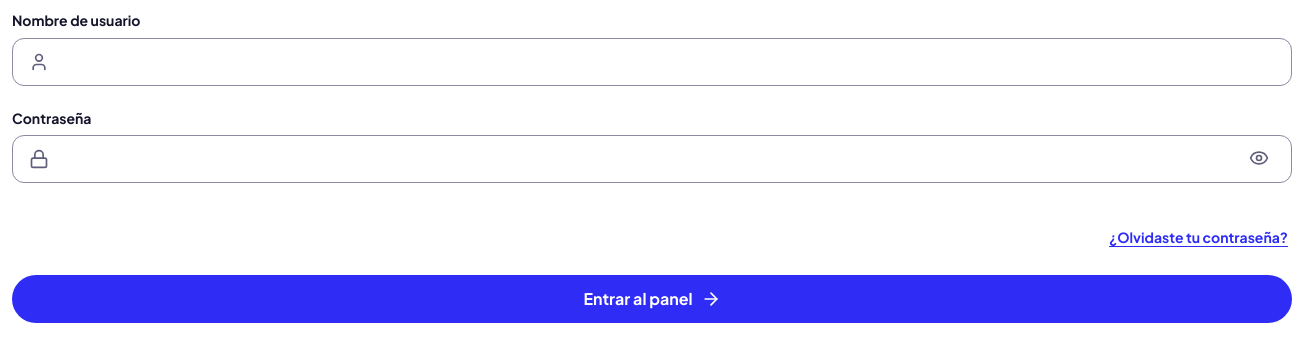
Test: LoginForm: validación › rechaza una contraseña de 7 caracteres sin enviar (CA-015)
In the field labelled "Nombre de usuario": (666, 62) left=57, top=40, right=1275, bottom=84, type "Harold"
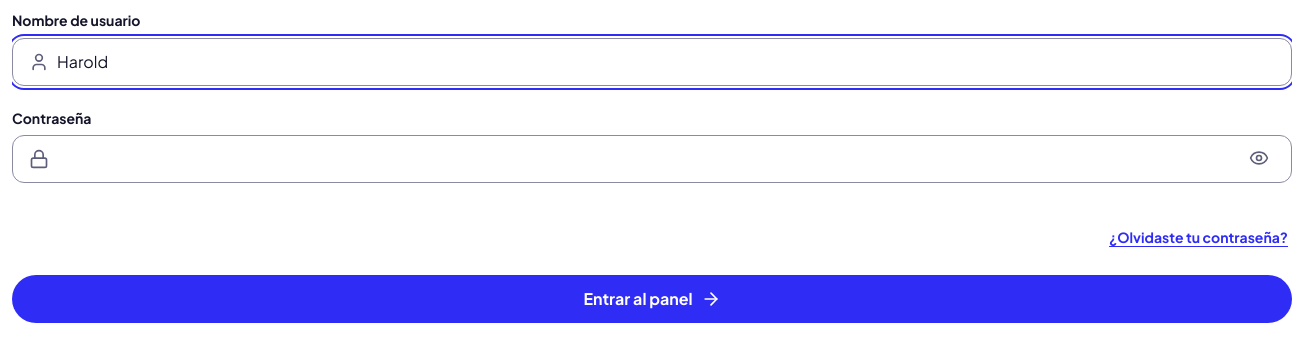
In the password field labelled "Contraseña": (646, 159) left=57, top=137, right=1235, bottom=181, type "1234567"
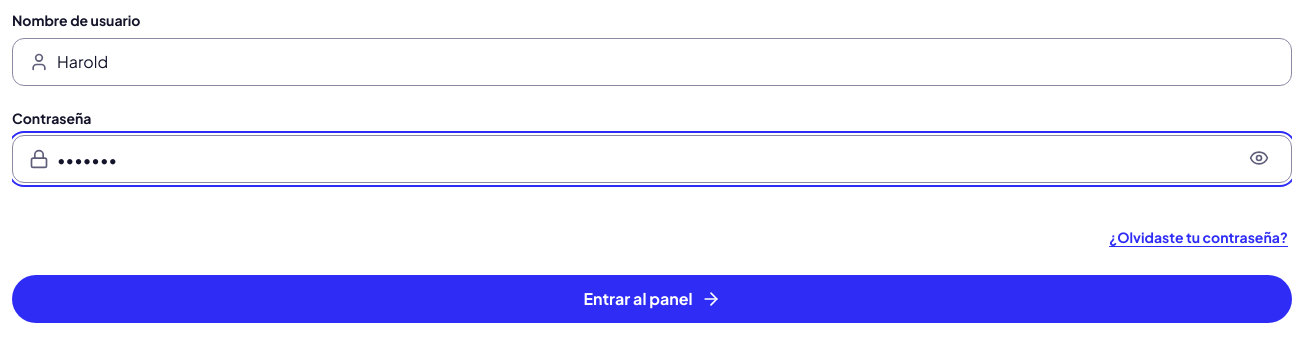
Click the button with test id "login-submit": (652, 299) left=12, top=275, right=1292, bottom=323
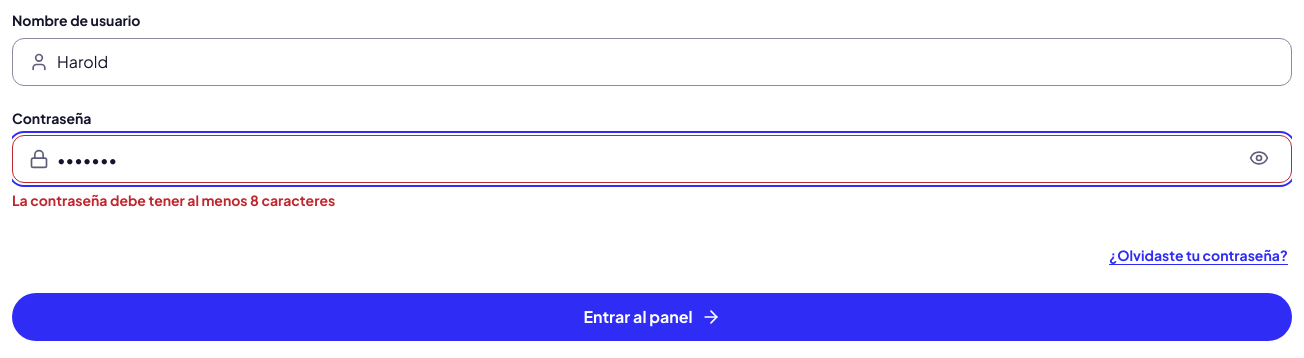
expect the text with test id "login-password-error" reads "La contraseña debe tener al menos 8 caracteres": met, box left=12, top=191, right=335, bottom=209
